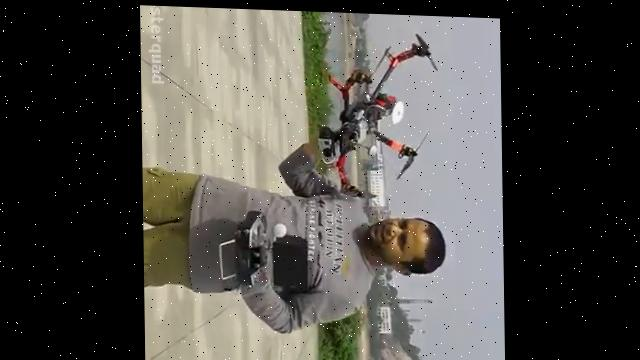drone: (314, 24, 445, 198)
